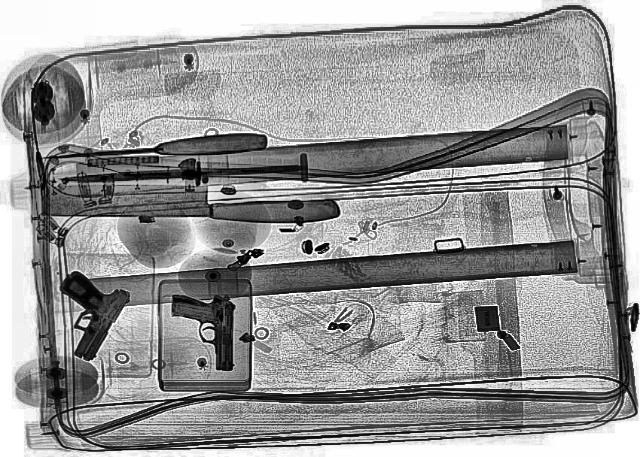Gun: (20, 268, 138, 364), (168, 292, 238, 372)
Knife: (40, 173, 340, 229), (38, 130, 268, 166), (55, 160, 298, 184)
